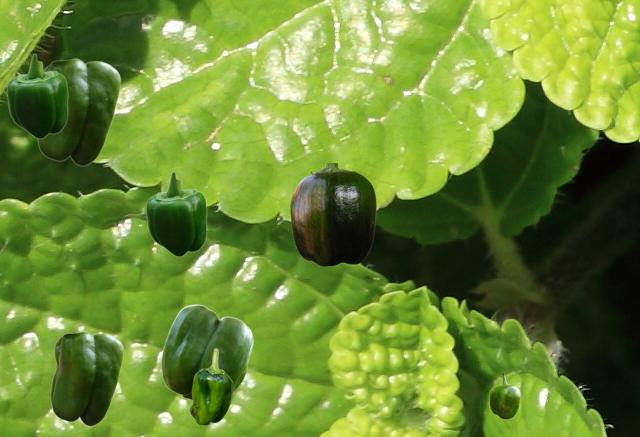bell_pepper: (37, 58, 120, 165), (161, 304, 252, 400), (290, 163, 375, 265), (50, 331, 123, 425), (145, 171, 206, 256), (6, 53, 67, 138), (189, 348, 232, 424), (489, 372, 519, 418)
